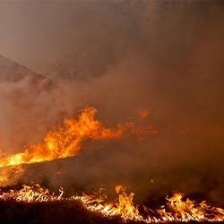fire: (1, 102, 224, 224)
